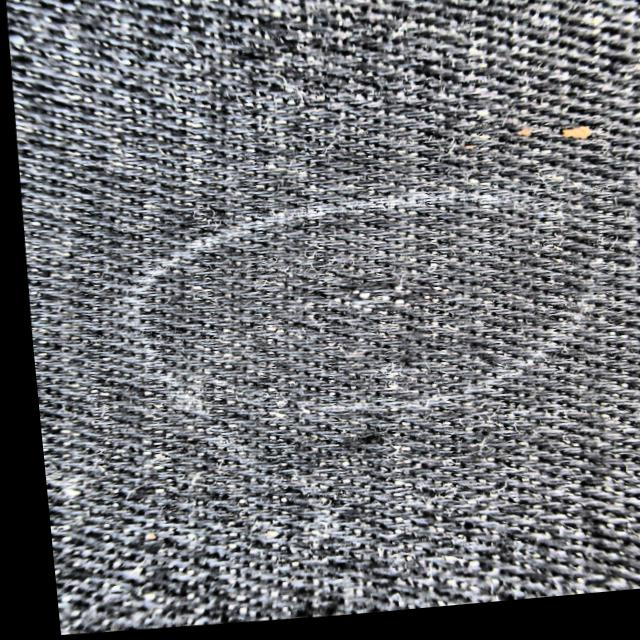Hole: (554, 130, 592, 153)
